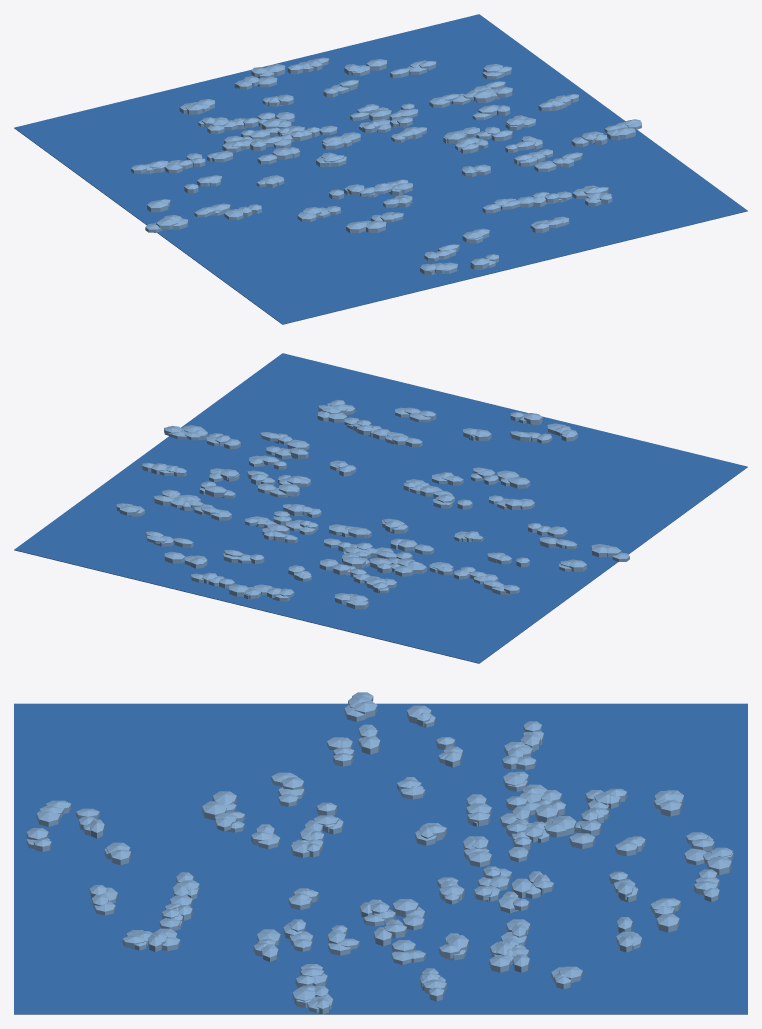
File: SM_Backdrop.glb
The picture shows the model from 3 angles, top to bottom: view 1: azimuth 30°, elevation 25°; view 2: azimuth 150°, elevation 25°; view 3: azimuth 270°, elevation 25°; orthographic projection. The views are drawn at different scales.
Parts seen in each view (by area): view 1: SM_Backdrop; view 2: SM_Backdrop; view 3: SM_Backdrop.
Part boxes in pixels (x1,y1,x2,y2): SM_Backdrop: (14,14,747,324); SM_Backdrop: (14,353,747,663); SM_Backdrop: (14,692,747,1014).
Size of the model in its own units: 92.65 by 2.15 by 90.
